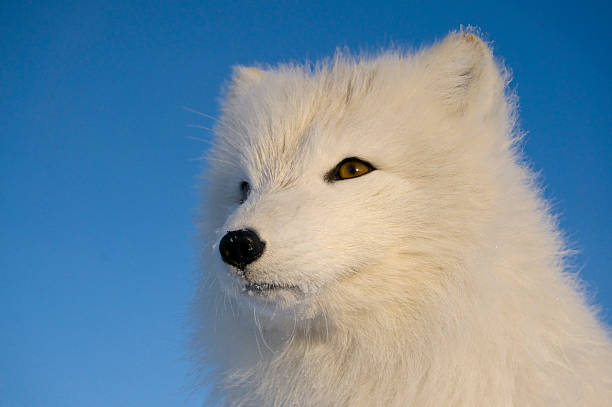arcticfox: (215, 105, 415, 332)
